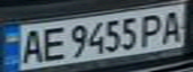4: (87, 19, 109, 55)
5: (103, 17, 127, 53), (118, 15, 142, 51)
9: (66, 21, 90, 59)
A: (15, 26, 48, 65), (157, 8, 187, 44)
E: (36, 24, 69, 63)
P: (136, 11, 169, 47)
